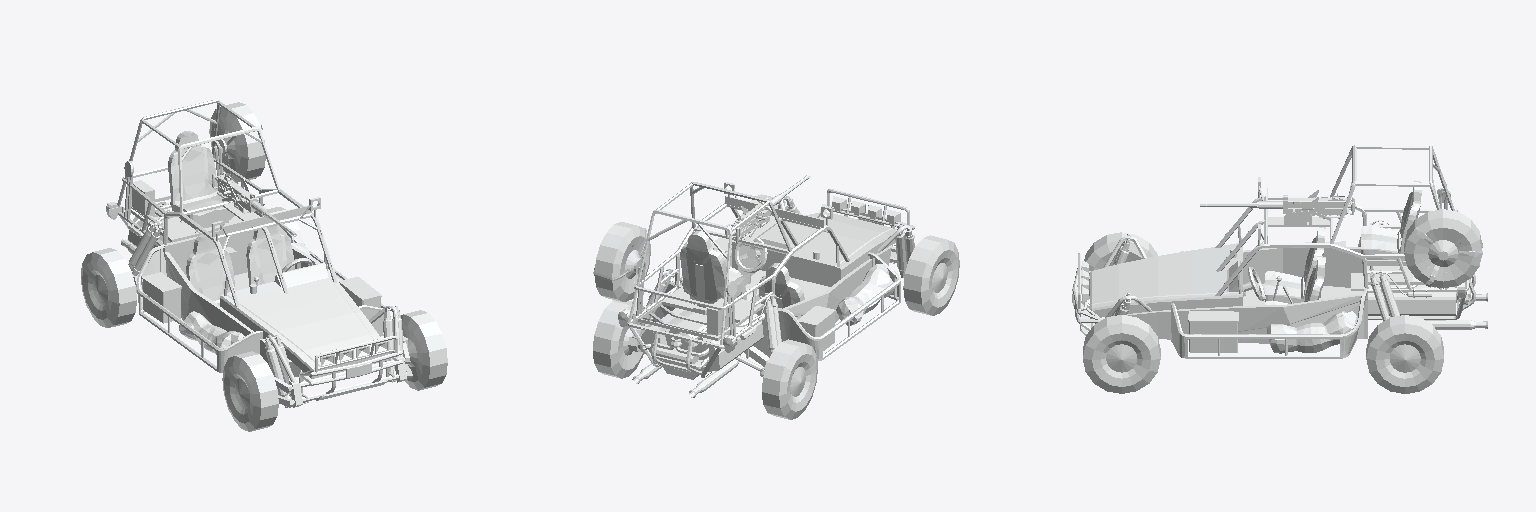
The model's file is dpv.obj.
3 renders of one model, left to right at view 1: azimuth 30°, elevation 25°; view 2: azimuth 150°, elevation 25°; view 3: azimuth 270°, elevation 25°, orthographic.
Parts seen in each view (by area): view 1: Mesh_0020, Mesh_0019; view 2: Mesh_0020, Mesh_0019; view 3: Mesh_0020, Mesh_0019.
Boxes of the visible parts, x1=… form: Mesh_0020: x1=81, y1=100, x2=447, y2=431; Mesh_0019: x1=212, y1=172, x2=296, y2=236; Mesh_0020: x1=593, y1=182, x2=959, y2=419; Mesh_0019: x1=725, y1=175, x2=810, y2=240; Mesh_0020: x1=1072, y1=145, x2=1487, y2=393; Mesh_0019: x1=1200, y1=190, x2=1356, y2=224.
Bounding box in the file's own units: 16.82 × 15.48 × 31.48.